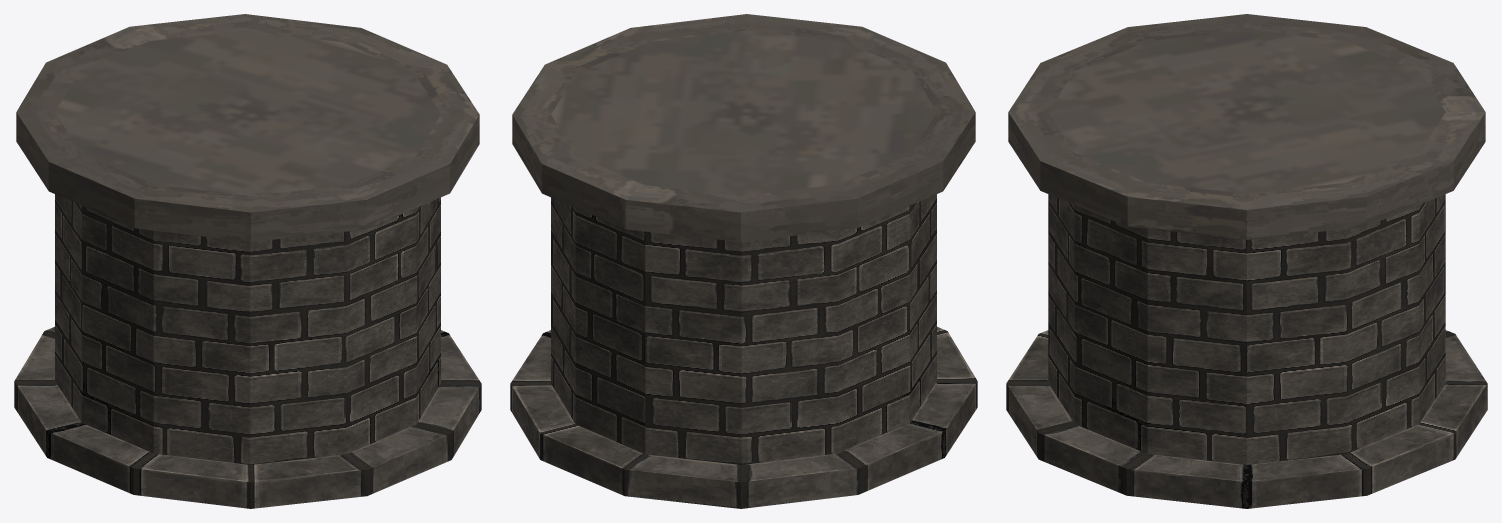
The model's file is CircularPillar02.fbx.
The picture shows the model from 3 angles, left to right: view 1: azimuth 30°, elevation 25°; view 2: azimuth 150°, elevation 25°; view 3: azimuth 270°, elevation 25°; orthographic projection.
Visible parts, largest first — view 1: Cylinder; view 2: Cylinder; view 3: Cylinder.
Part boxes in pixels (x1,y1,x2,y2): Cylinder: [14, 14, 481, 508]; Cylinder: [510, 14, 977, 508]; Cylinder: [1006, 14, 1487, 508].
Size of the model in its own units: 2.84 by 2 by 2.92.
1 material, 1 textured.
